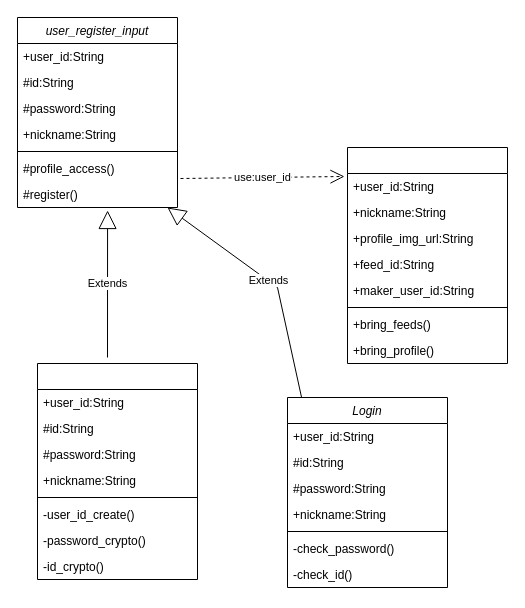
Some shapes in this 525 by 608 pixel diagram are drawn without their labels. The box of each missing label's shape, as (x1, y1, x2, y2) in pixels:
Home_display: (346, 146, 508, 364)
Register: (36, 362, 198, 580)
